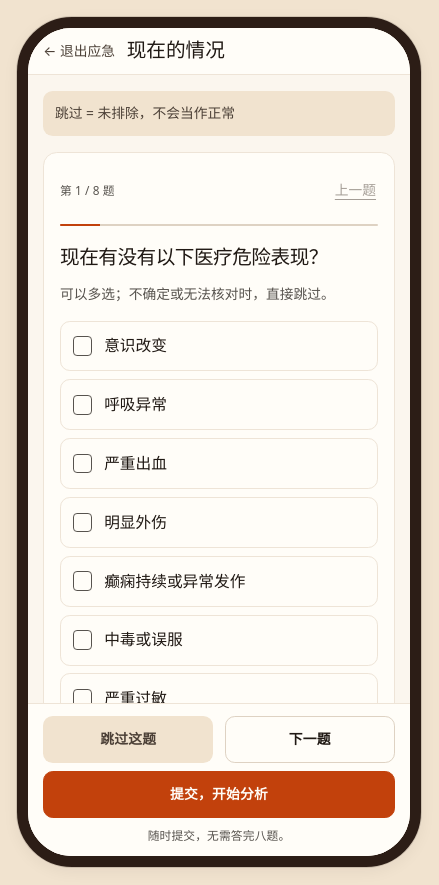
Test: 应急表单页 — 提交 › 提交失败：显示错误卡且已填内容不清空
Click the checkbox labelled "意识改变": (136, 345) [60,320,378,372]
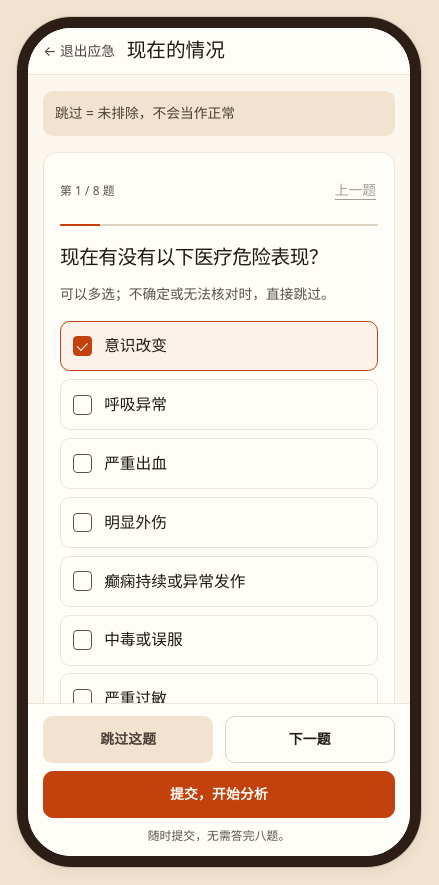
Click the button "下一题": (310, 739) [225,716,395,763]
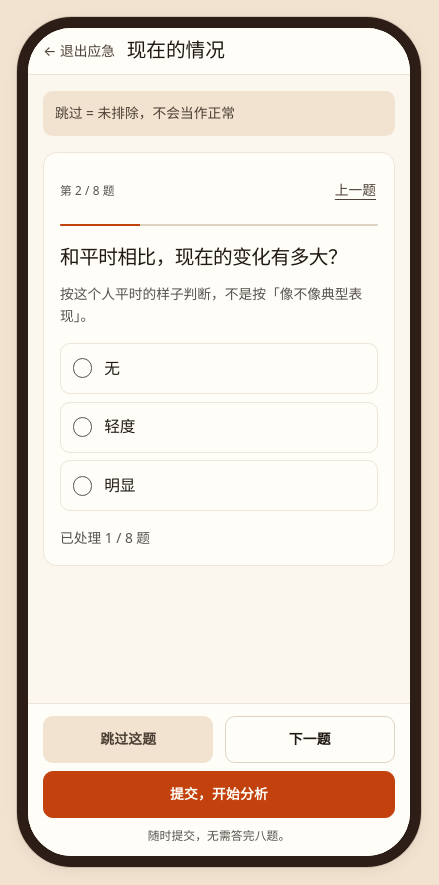
Click the radio button labelled "明显": (120, 485) [60,460,378,511]
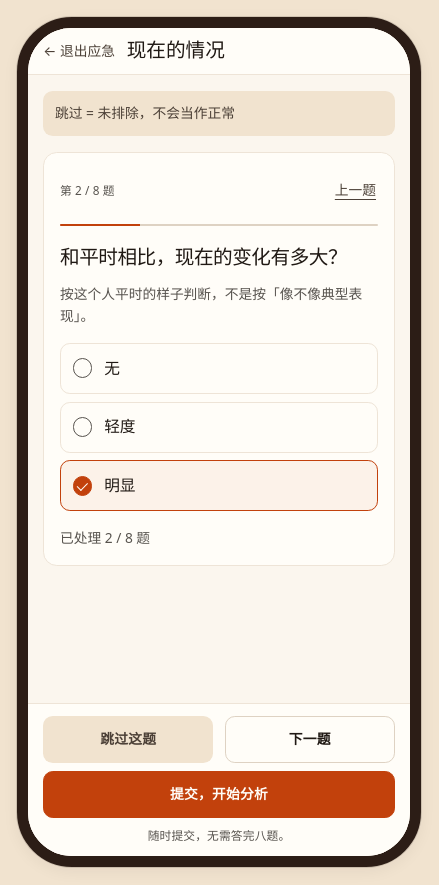
Click the button "提交，开始分析": (219, 794) [43,771,395,818]
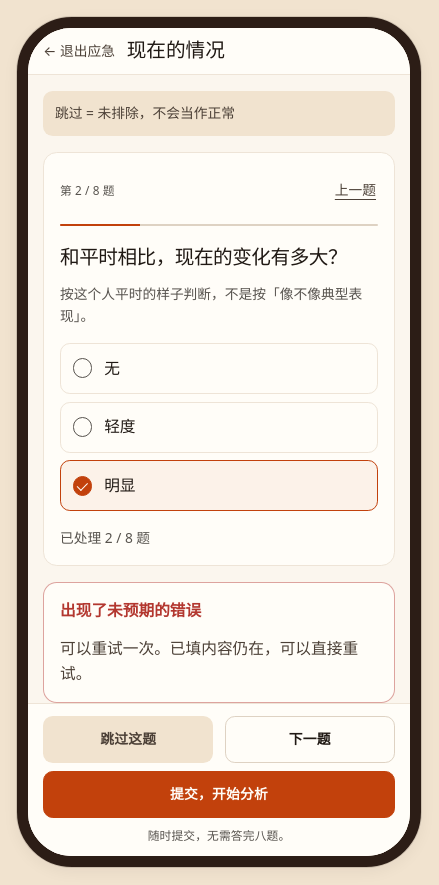
Result: the text "出现了未预期的错误" is shown at [60,599,201,621]
Note: 回到第一题：勾选仍在（已填内容保留）。
Click the button "上一题": (356, 190) [335,169,378,212]
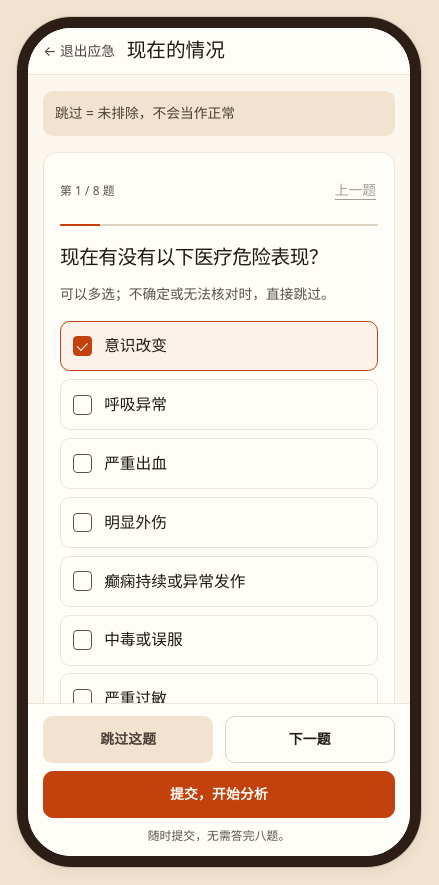
Result: the checkbox labelled "意识改变" is checked at [60,320,378,372]
